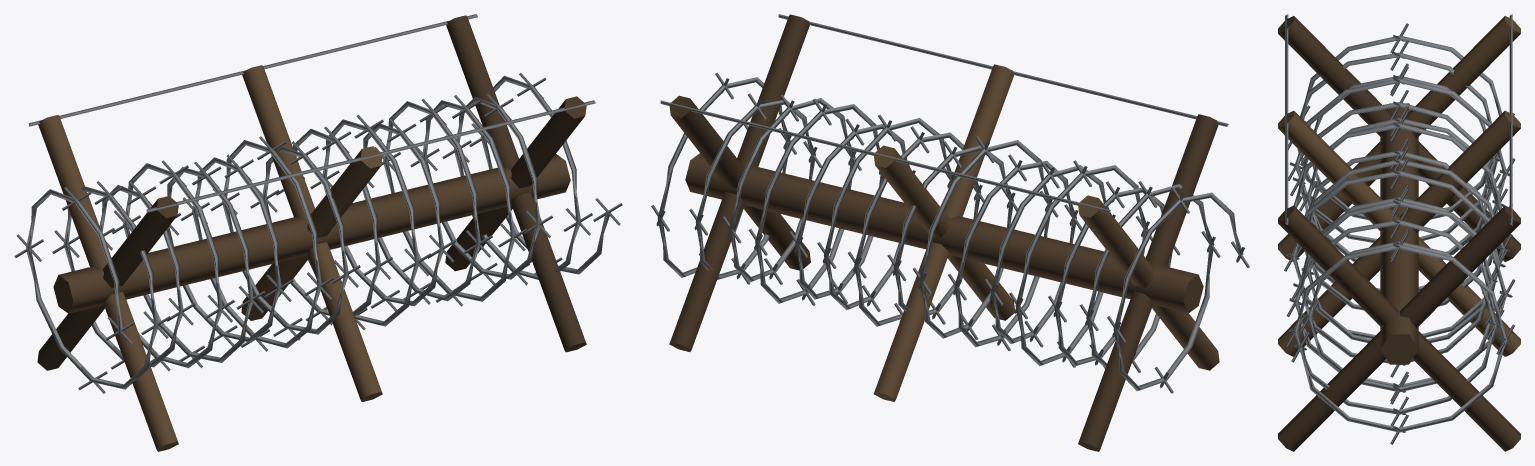
File: defensa-alambrada.glb
3 views of the same model, side by side, from view 1: azimuth 30°, elevation 25°; view 2: azimuth 150°, elevation 25°; view 3: azimuth 270°, elevation 25° (orthographic). The views are drawn at different scales.
Visible parts, largest first — view 1: defensa-alambrada; view 2: defensa-alambrada; view 3: defensa-alambrada.
Boxes of the visible parts, <box> form: defensa-alambrada: <box>14,14,622,451</box>; defensa-alambrada: <box>651,14,1249,451</box>; defensa-alambrada: <box>1278,14,1520,451</box>.
Bounding box in the file's own units: 2.06 × 0.9737 × 0.8877.
